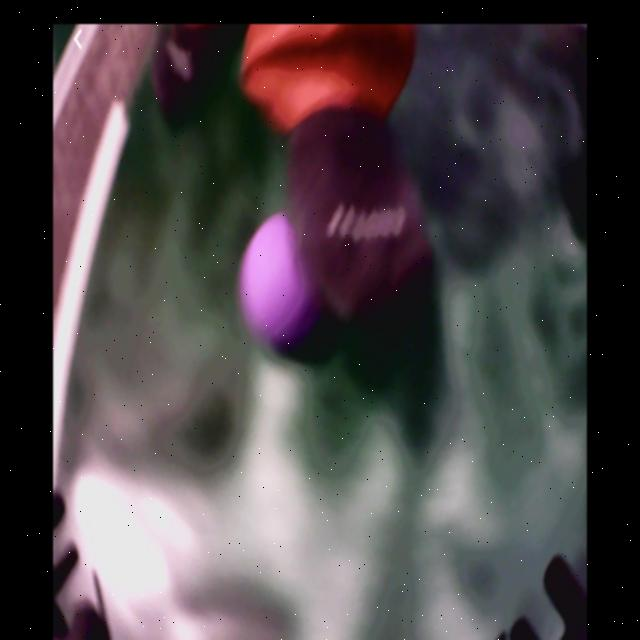ball: (239, 215, 315, 344)
